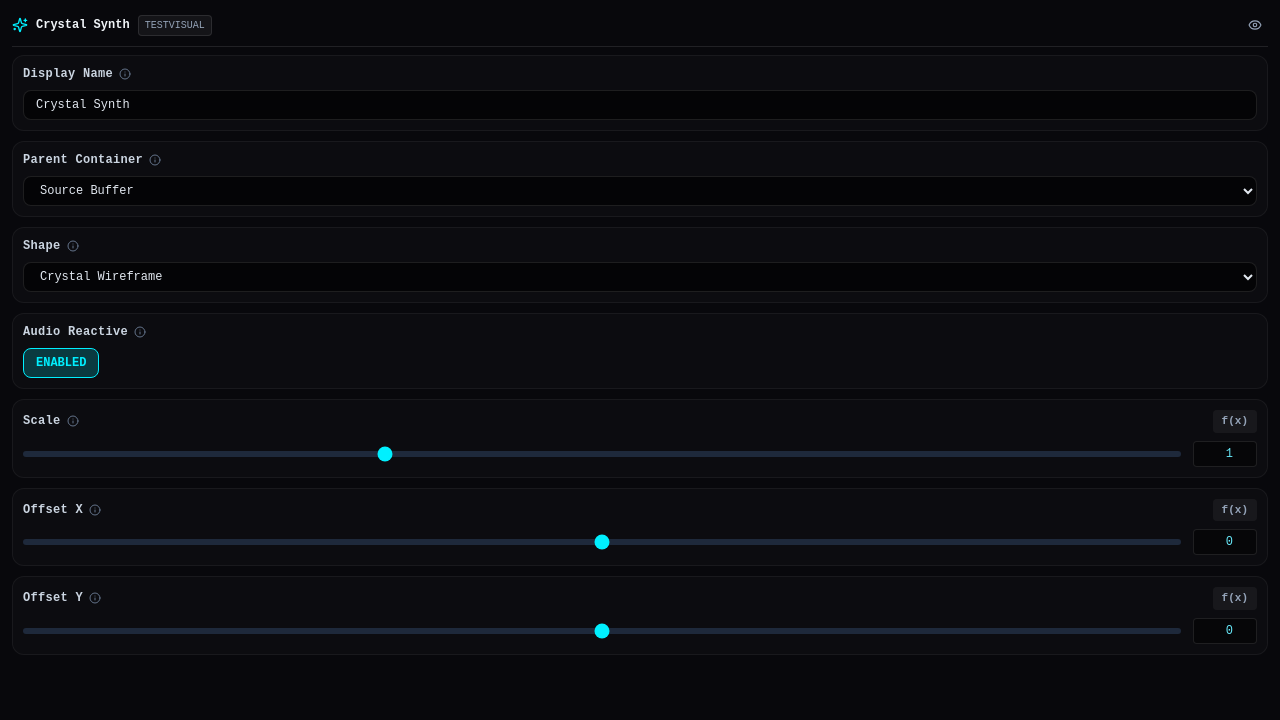
Test case: ParameterInspector Component › allows customizing the display name of a selected node
Replace the text in the field named "Display Name" with "Cosmic Core" at (640, 105), box [23,90,1257,120]
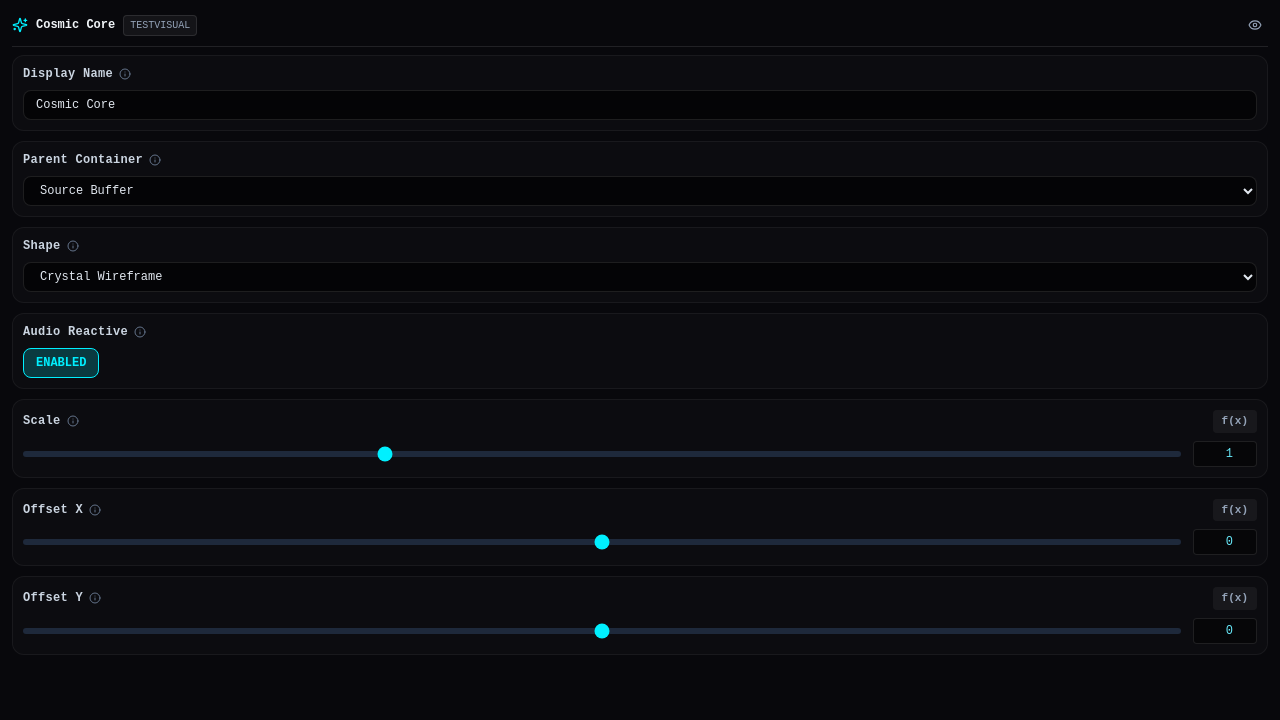
Now the text "Cosmic Core" is shown, box [36,17,115,33]
